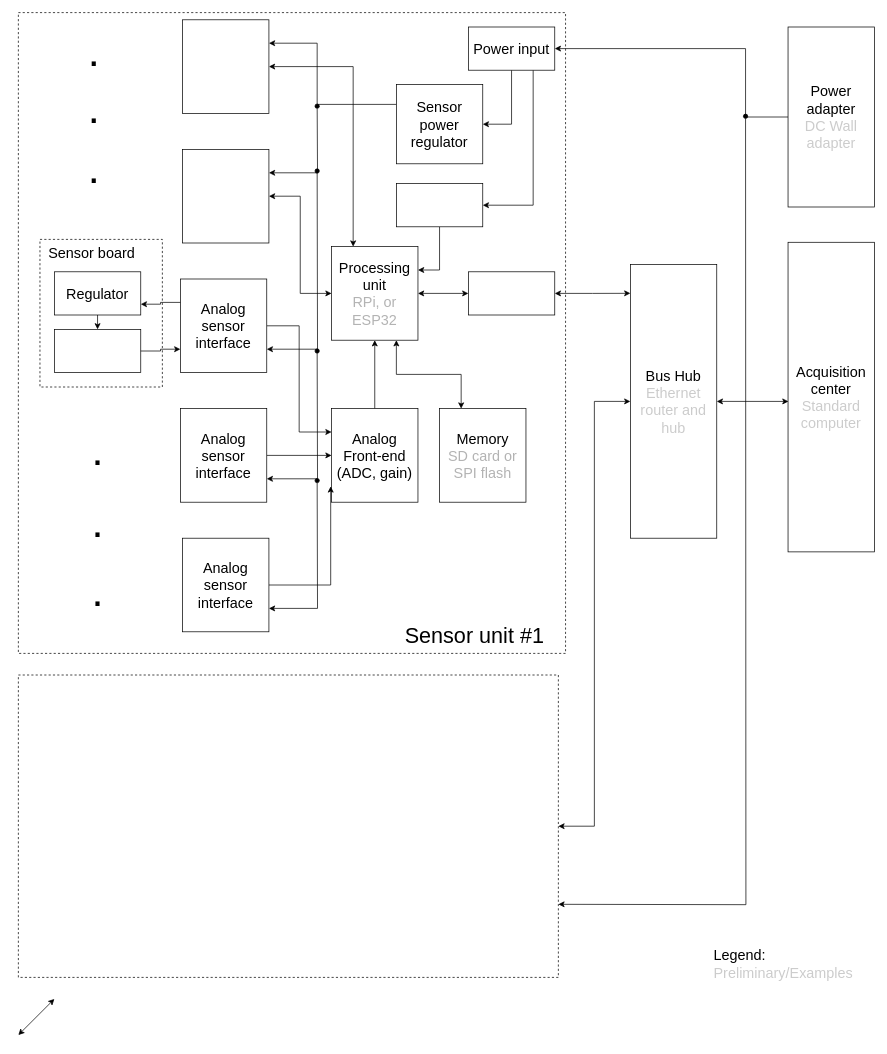
This 887x1054 diagram has some shape labels left out. The shapes that lost their labels are listed below. From the top down, each one's centre as x and y in pixels, then its label:
At point (225, 66): "Digital sensor interface SPI".
At point (225, 196): "Digital sensor interface I2C".
At point (439, 205): "Power regulator".
At point (511, 293): "Output bus Ethernet".
At point (97, 351): "Sensor".
At point (288, 825): "Sensor unit #2".
